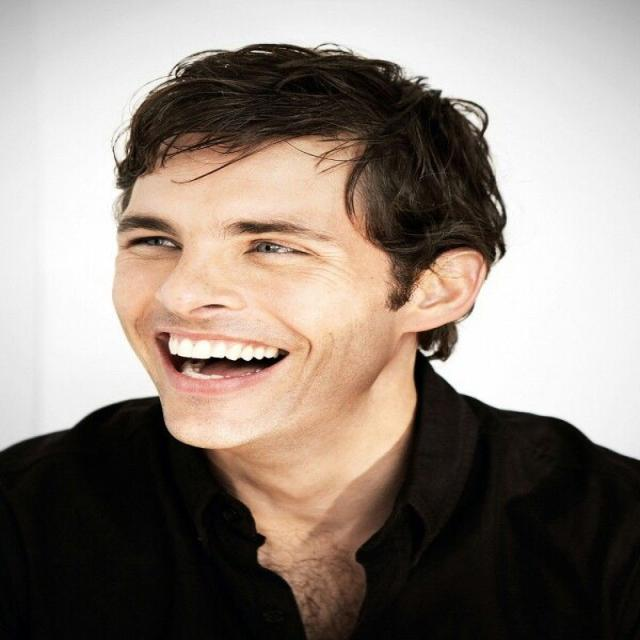sem_oculos: (103, 198, 443, 284)
